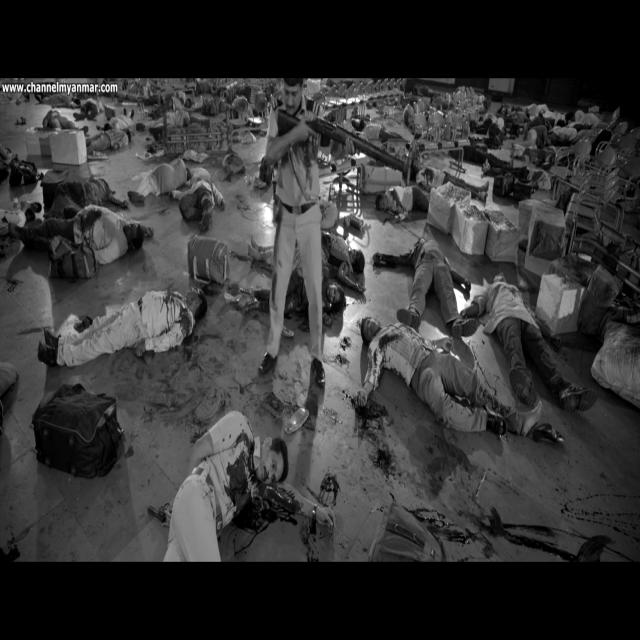gun: (278, 109, 408, 173), (148, 502, 172, 524)
